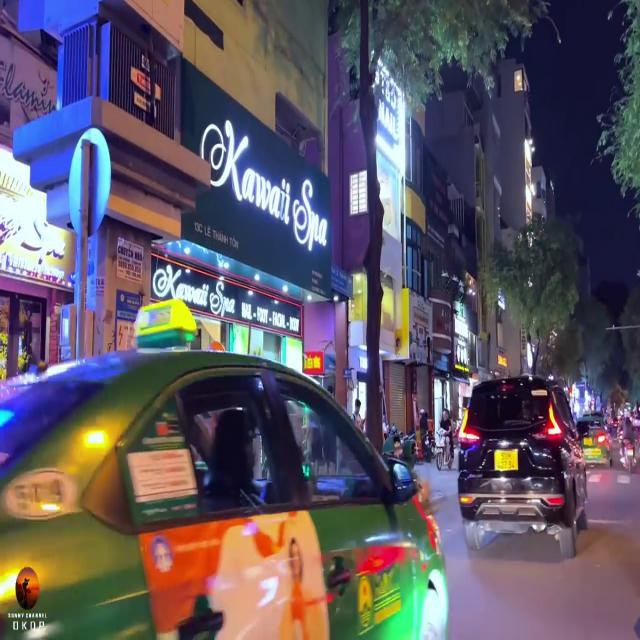bien_vang: (495, 450, 519, 473)
